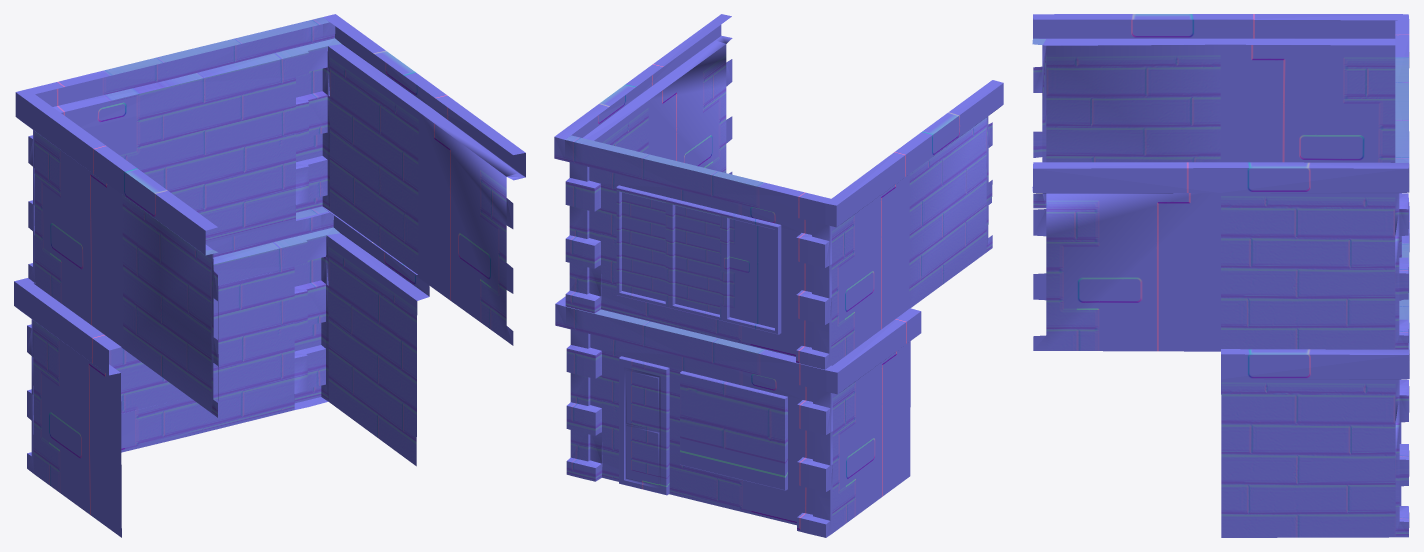
Rendered from lowerhousefull.fbx.
3 renders of one model, left to right at view 1: azimuth 30°, elevation 25°; view 2: azimuth 150°, elevation 25°; view 3: azimuth 270°, elevation 25°, orthographic. The views are drawn at different scales.
Parts seen in each view (by area): view 1: LowerHouse; view 2: LowerHouse; view 3: LowerHouse.
Part boxes in pixels (left/top/right/bottom): LowerHouse: left=14, top=14, right=525, bottom=537; LowerHouse: left=554, top=14, right=1003, bottom=537; LowerHouse: left=1032, top=14, right=1409, bottom=537.
Bounding box in the file's own units: 132 × 149 × 135.
